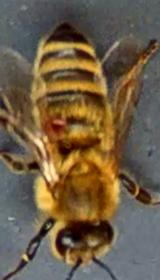varroa_mite: (36, 110, 72, 144)
